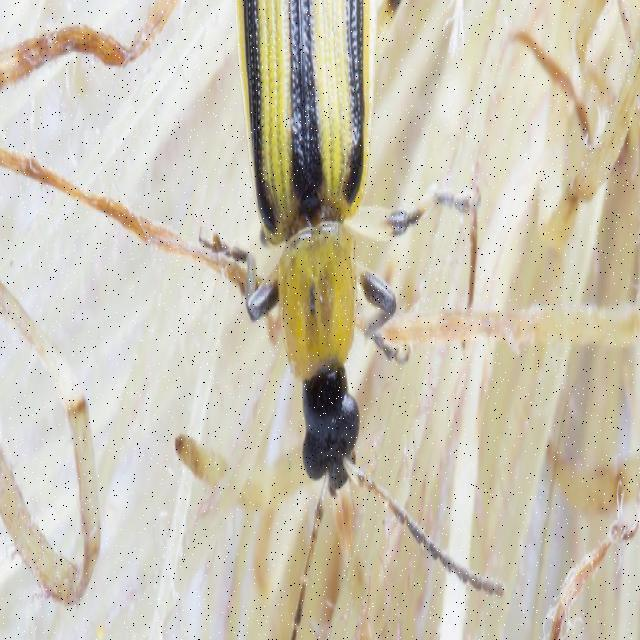trips: (197, 0, 507, 640)
